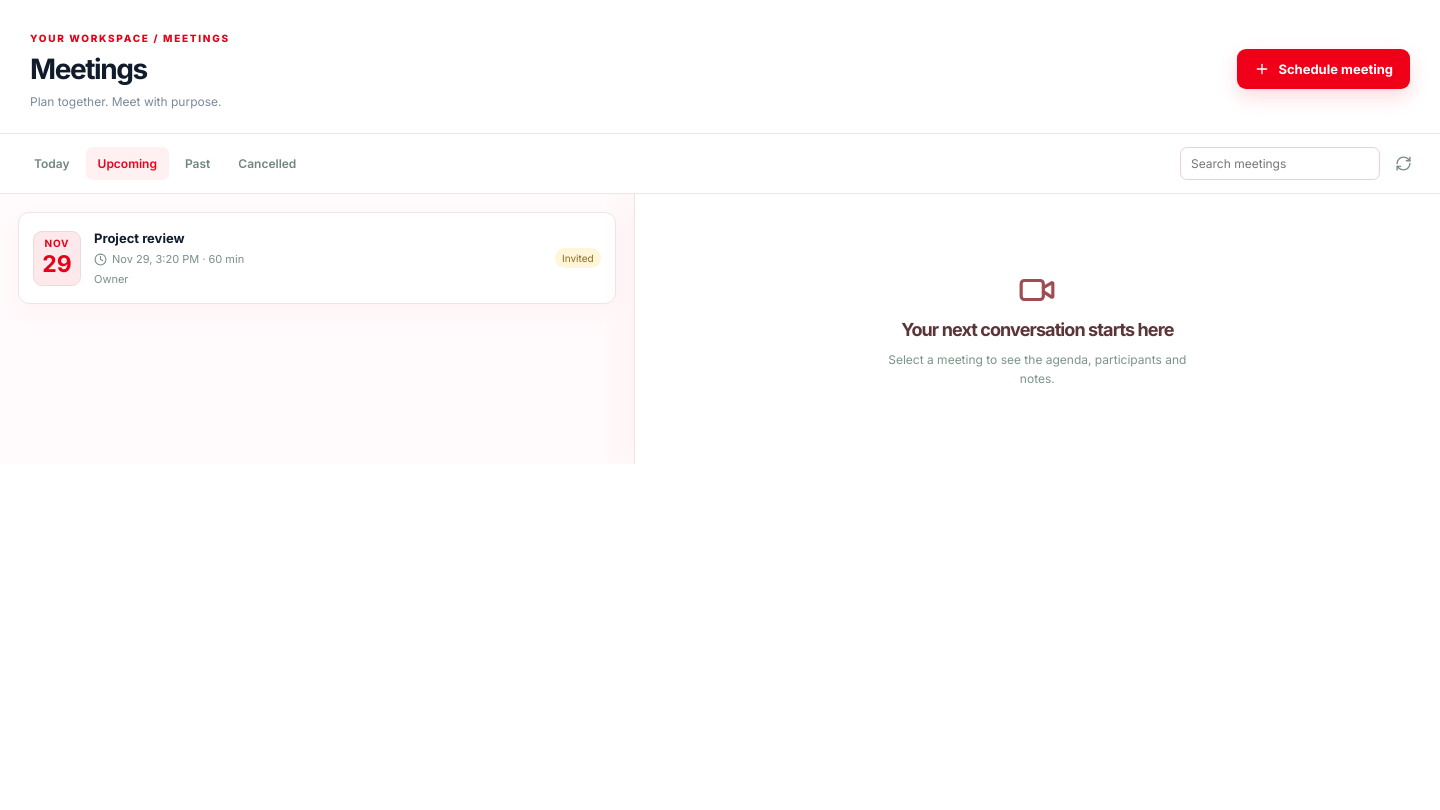
Scenario: Ended meeting deletion › replaces Cancel with Delete and removes the completed meeting
Click the button "Nov 29 Project review Nov 29, 3:20 PM · 60 min Owner Invited": (57, 258) 18,212 -> 616,304
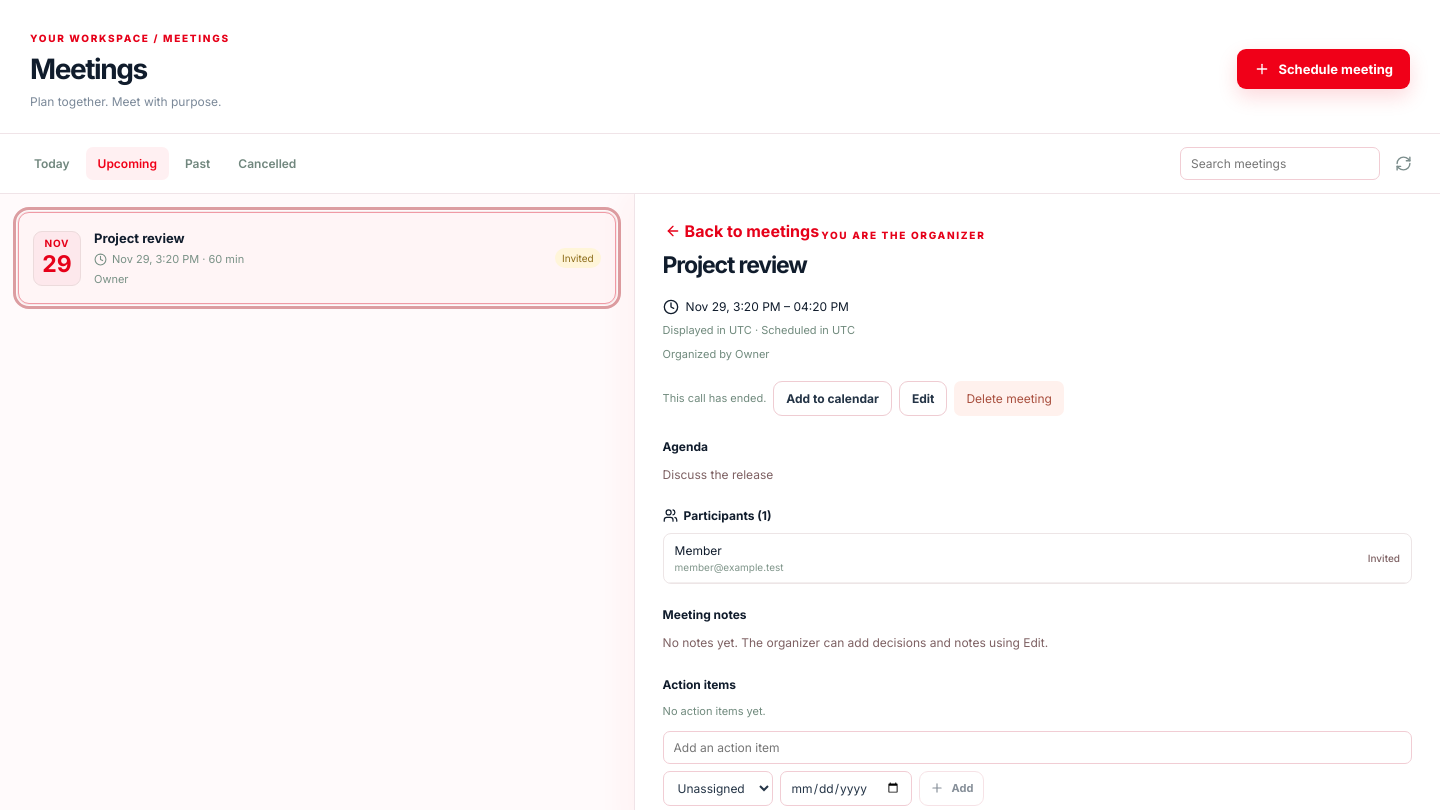
Click the button "Delete meeting": (1009, 398) 954,381 -> 1064,416
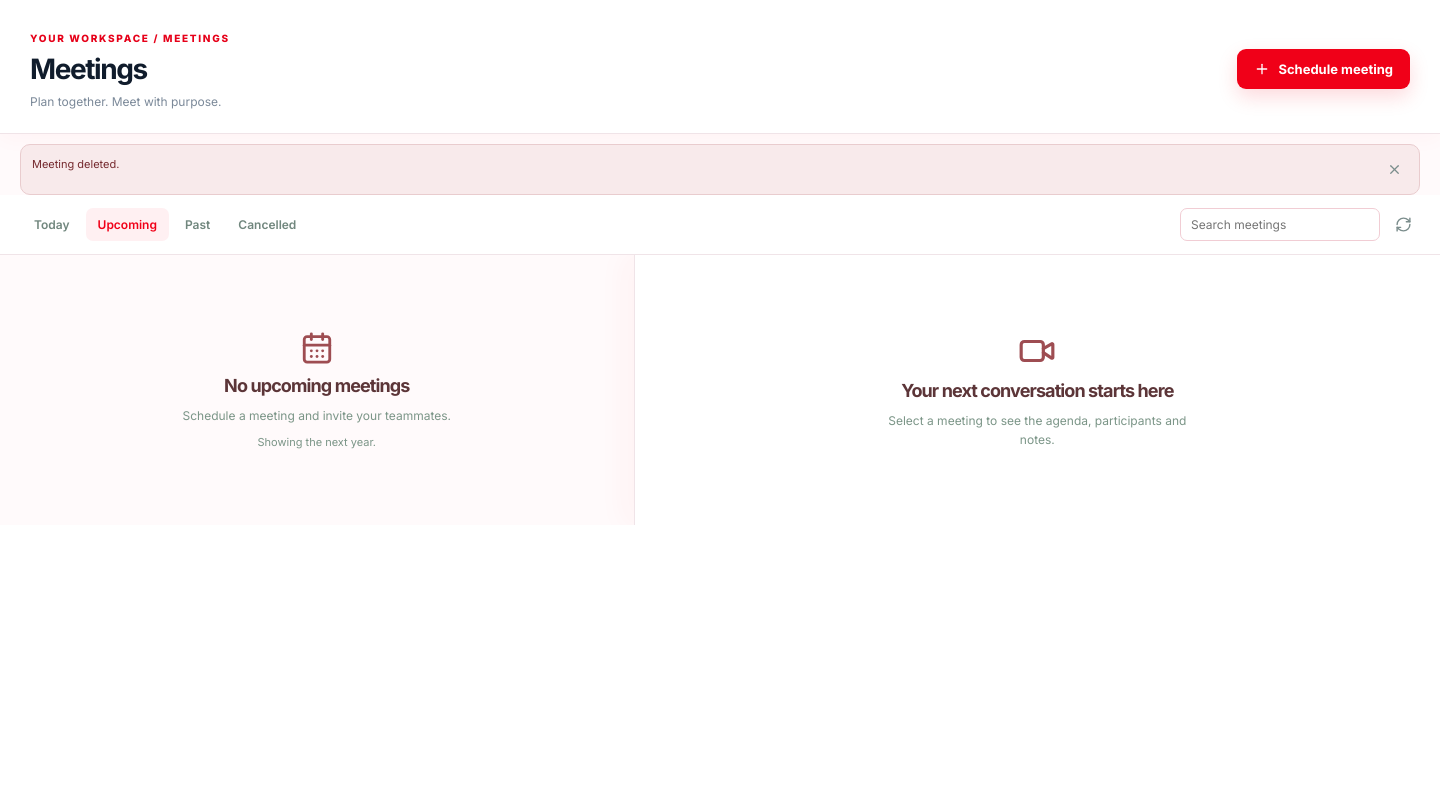
Result: the text "Meeting deleted." is shown at 20,144 -> 1420,195
Result: the button "Project review" is gone
